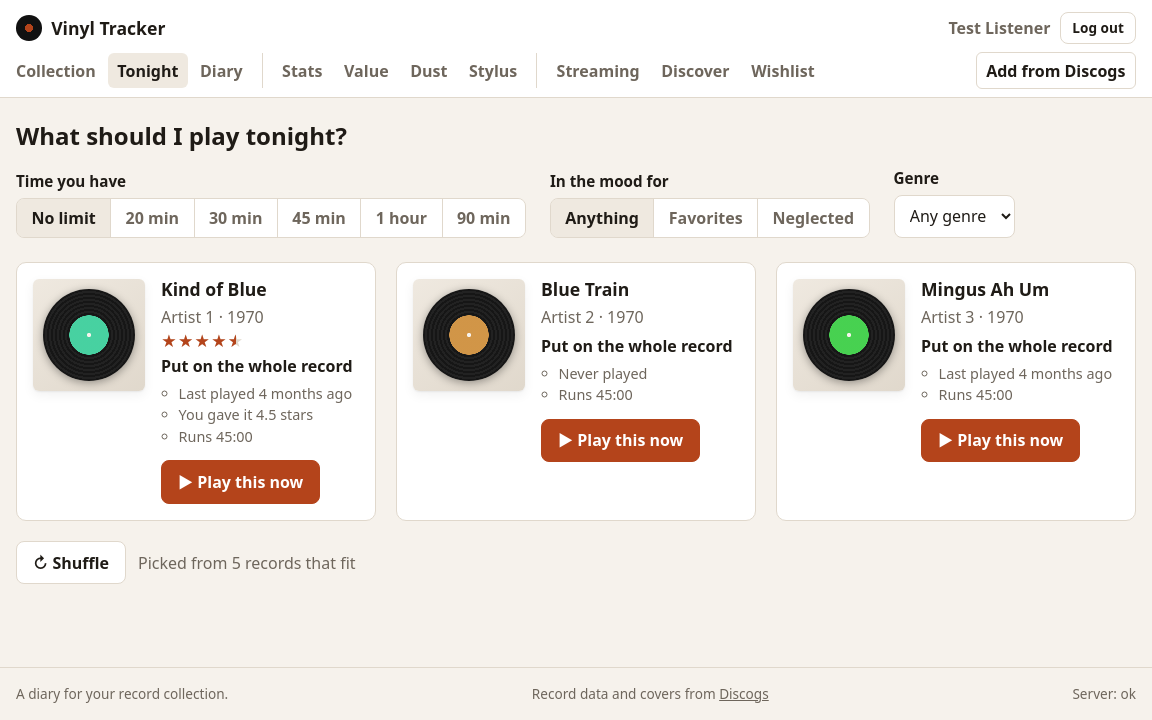
Test: TonightPage › shuffles to different records, then offers to start over
This screenshot has width=1152, height=720.
Expected: the heading "Kind of Blue" is shown, [161,279,267,300]
Click the button "↻ Shuffle": (71, 563) [16,541,126,584]
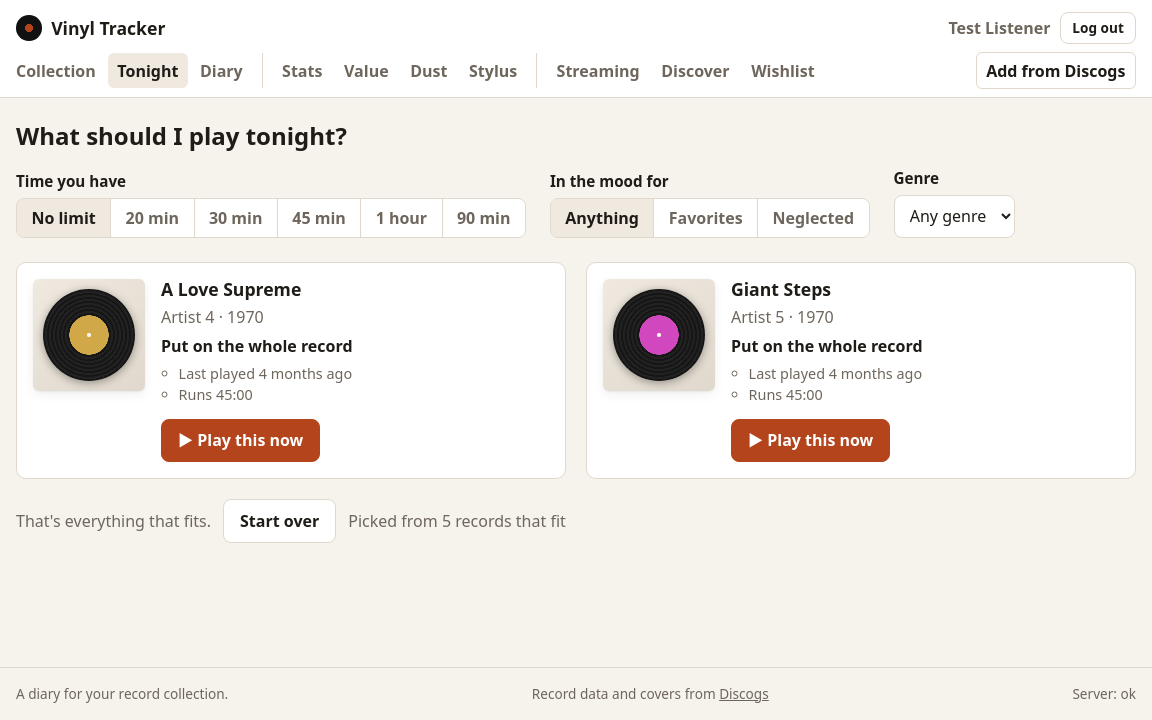
Result: the heading "A Love Supreme" is shown at [161,279,301,300]
Result: the link "Kind of Blue" is gone
Result: the text "That's everything that fits." is shown at [16,509,211,533]
Click the button "Start over": (280, 521) [223,499,336,543]
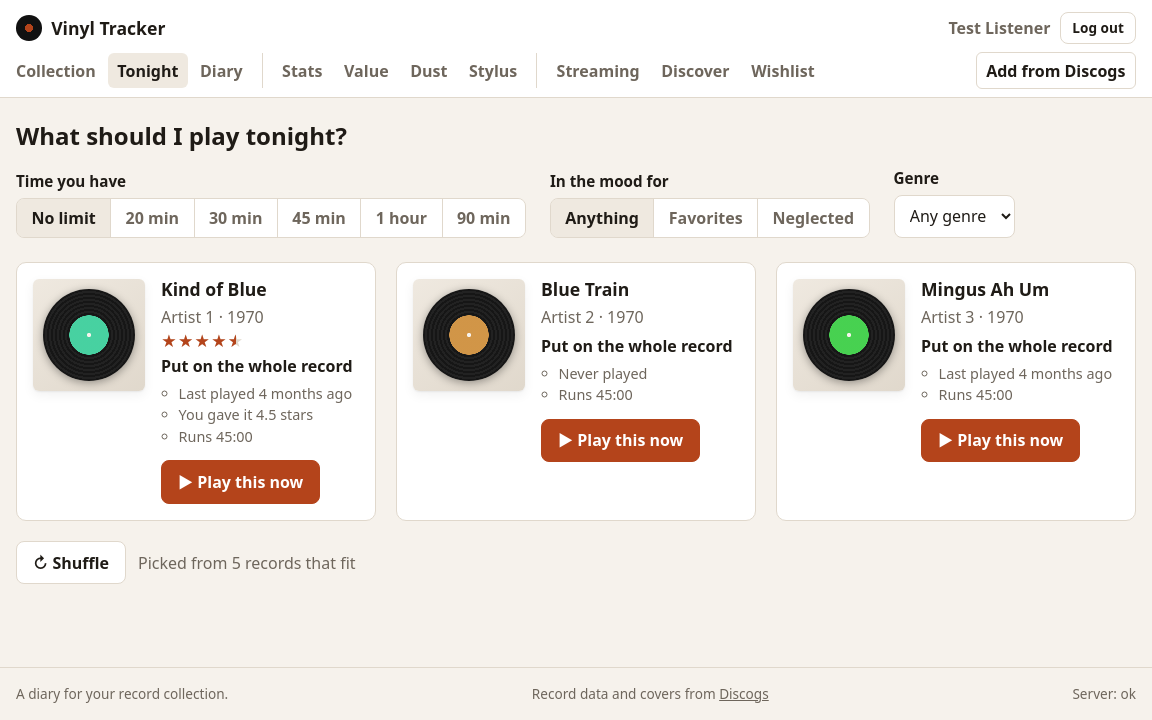
Result: the heading "Kind of Blue" is shown at [161,279,267,300]
